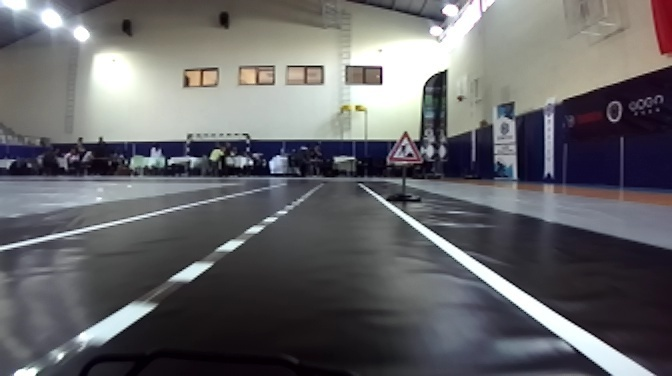yol_yapimi: (381, 133, 422, 166)
